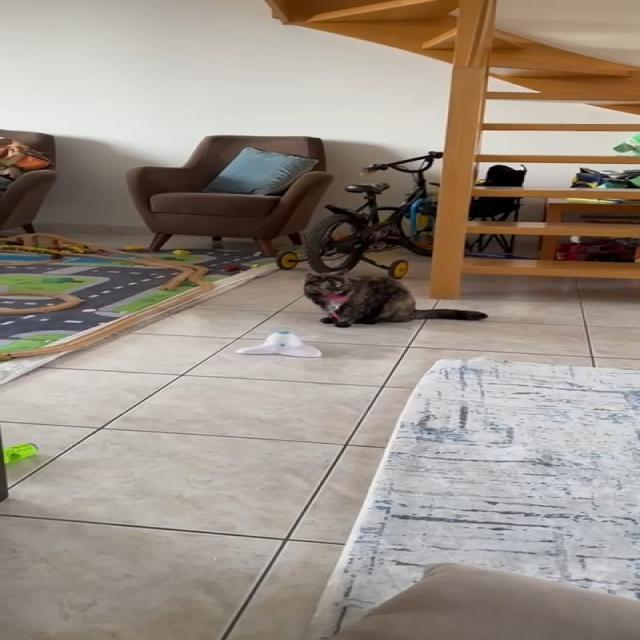authorized: (301, 272, 487, 328)
